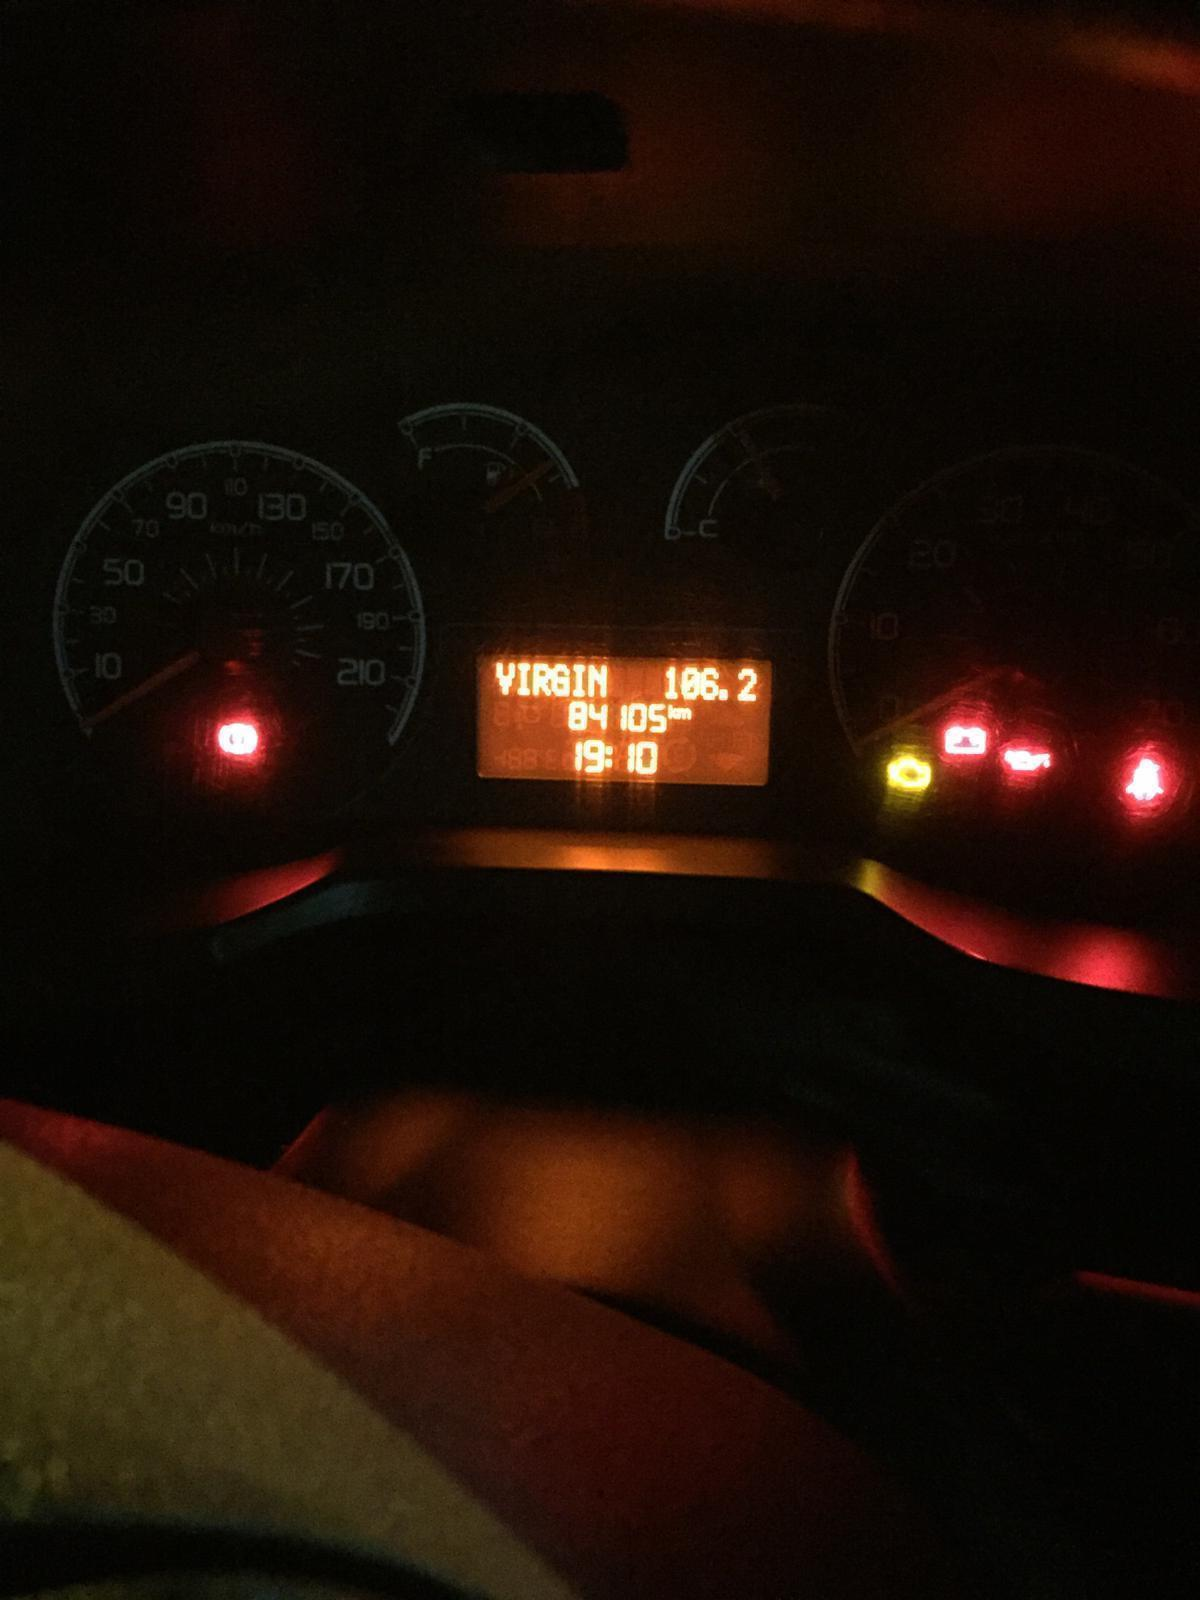,: (718, 687, 730, 703)
0: (635, 740, 661, 777), (679, 663, 700, 700), (628, 700, 647, 734)
1: (664, 666, 677, 702), (574, 738, 584, 777), (626, 741, 635, 777), (618, 702, 626, 734)
2: (736, 665, 758, 704)
4: (590, 700, 609, 728)
5: (649, 700, 666, 732)
6: (700, 665, 717, 703)
8: (568, 700, 587, 729)
9: (584, 737, 603, 776)
X: (532, 659, 552, 700), (589, 656, 608, 697), (494, 658, 514, 694), (571, 661, 587, 700), (553, 661, 568, 699), (516, 660, 529, 695), (604, 743, 616, 774), (676, 704, 695, 721), (667, 704, 676, 722)
odometer: (470, 648, 776, 790)
